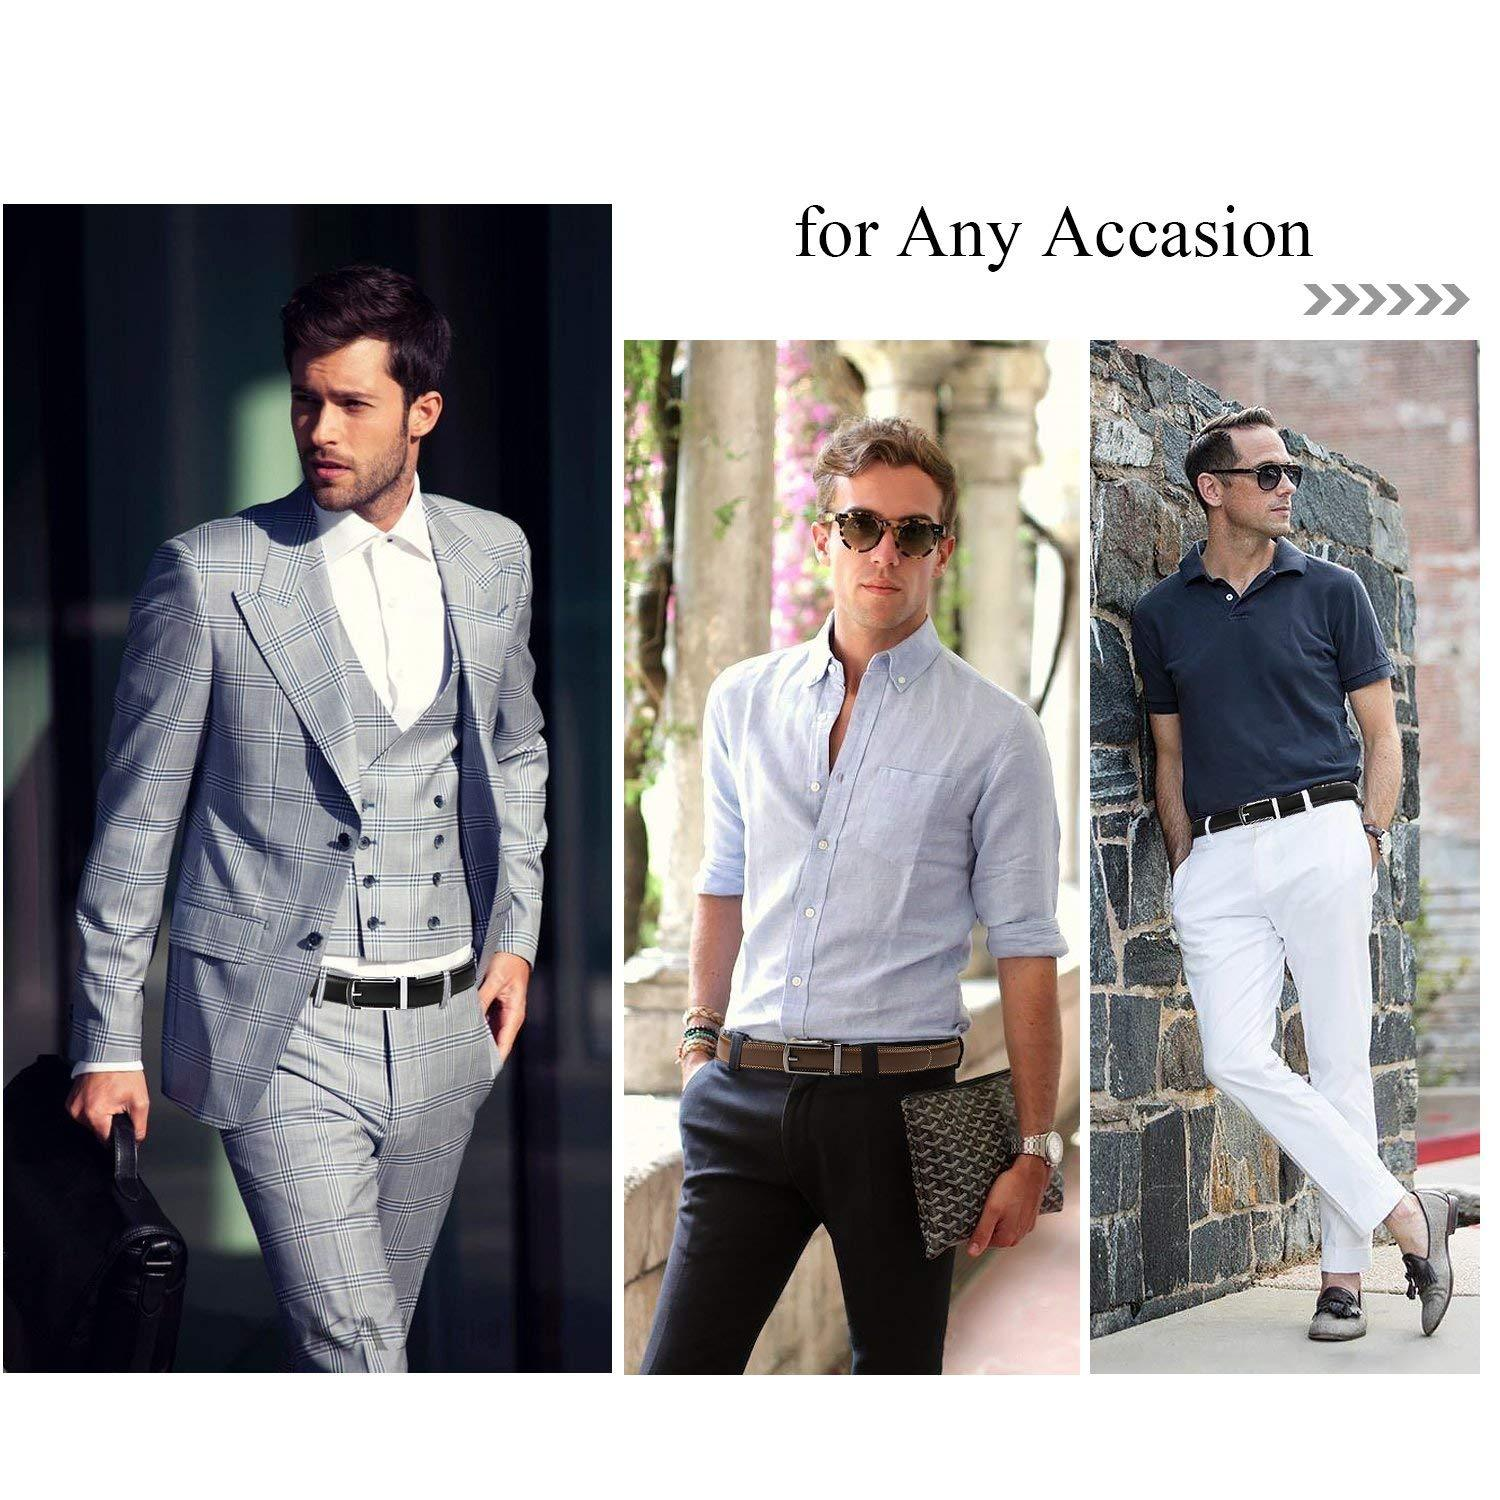C_polo shirt: (1139, 544, 1404, 784)
F_M_suit jacket: (84, 541, 558, 1096)
F_belt: (713, 1027, 975, 1080), (1180, 779, 1372, 828), (288, 959, 484, 1007)
F_dress pants: (1173, 810, 1402, 1286), (206, 1027, 523, 1354), (640, 1081, 953, 1368)
F_shirt: (662, 635, 1065, 1056)
